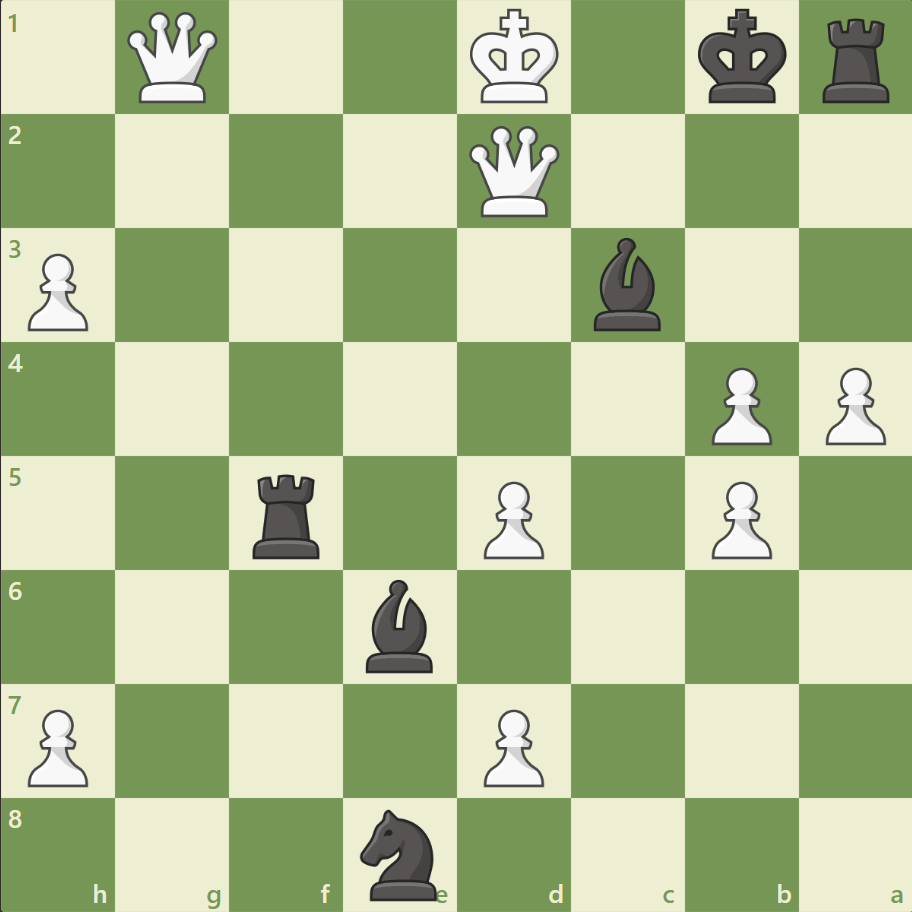K: (465, 4, 565, 112)
P: (474, 700, 549, 791), (20, 700, 95, 791), (701, 473, 776, 564), (474, 473, 549, 564), (701, 359, 776, 450), (20, 246, 95, 337), (815, 359, 889, 450)
Q: (464, 122, 563, 222), (124, 9, 223, 108)
b: (585, 233, 669, 336), (358, 574, 442, 676)
k: (692, 4, 792, 112)
n: (351, 802, 449, 904)
r: (246, 466, 329, 563), (814, 12, 897, 109)
